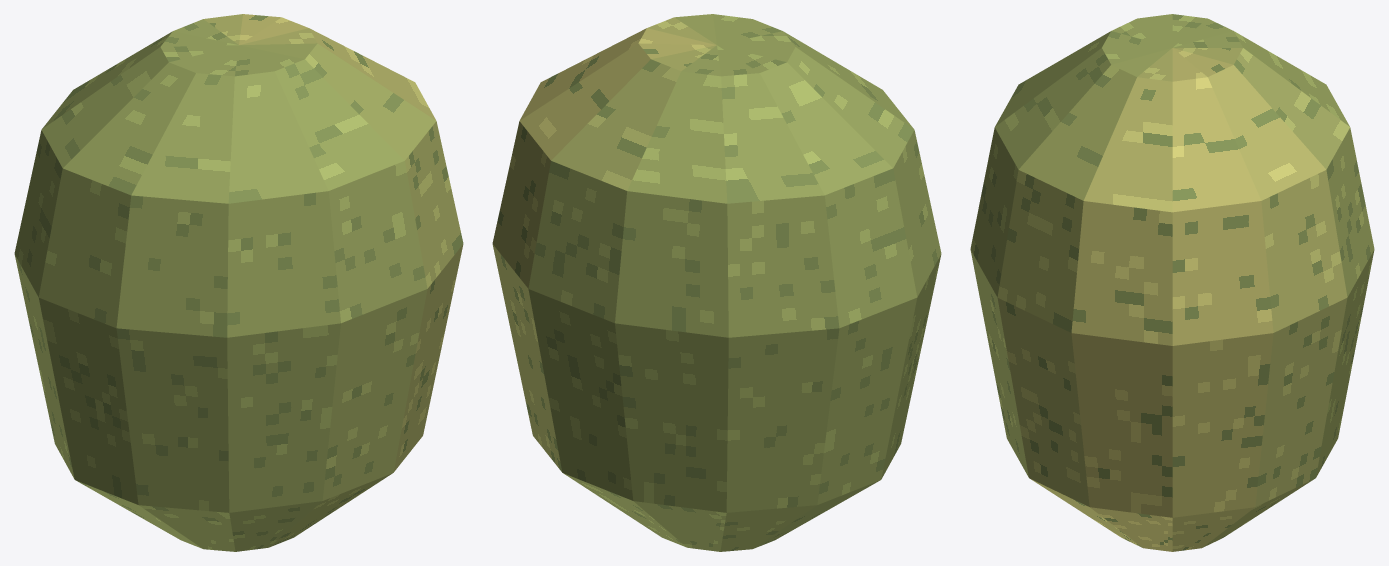
File: guayaba.glb
The picture shows the model from 3 angles, left to right: view 1: azimuth 30°, elevation 25°; view 2: azimuth 150°, elevation 25°; view 3: azimuth 270°, elevation 25°; orthographic projection.
Visible parts, largest first — view 1: block_guayaba; view 2: block_guayaba; view 3: block_guayaba.
Boxes of the visible parts, x1,y1,x2,y2 form: block_guayaba: (14, 14, 463, 551); block_guayaba: (492, 14, 941, 551); block_guayaba: (970, 14, 1374, 551).
Size of the model in its own units: 0.0789 by 0.0905 by 0.0696.
Materials: 1 (1 with a texture image).
